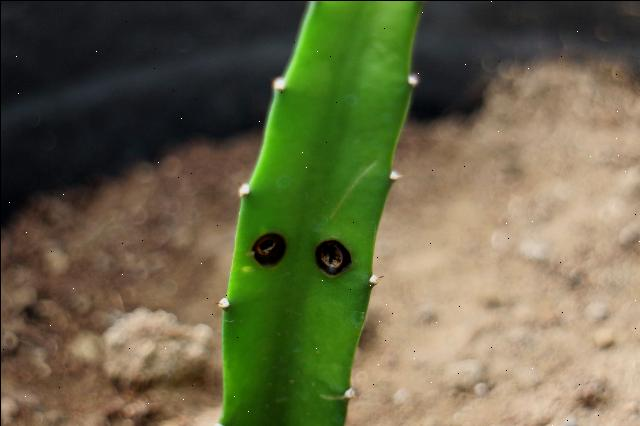stemcanker: (243, 230, 293, 270), (311, 236, 355, 280)
